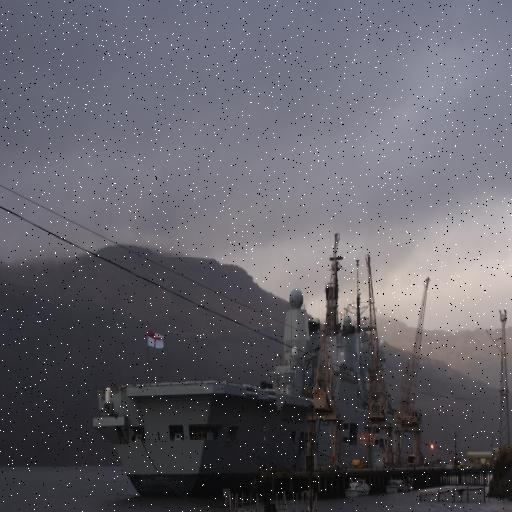Portanaves: (93, 227, 443, 505)
